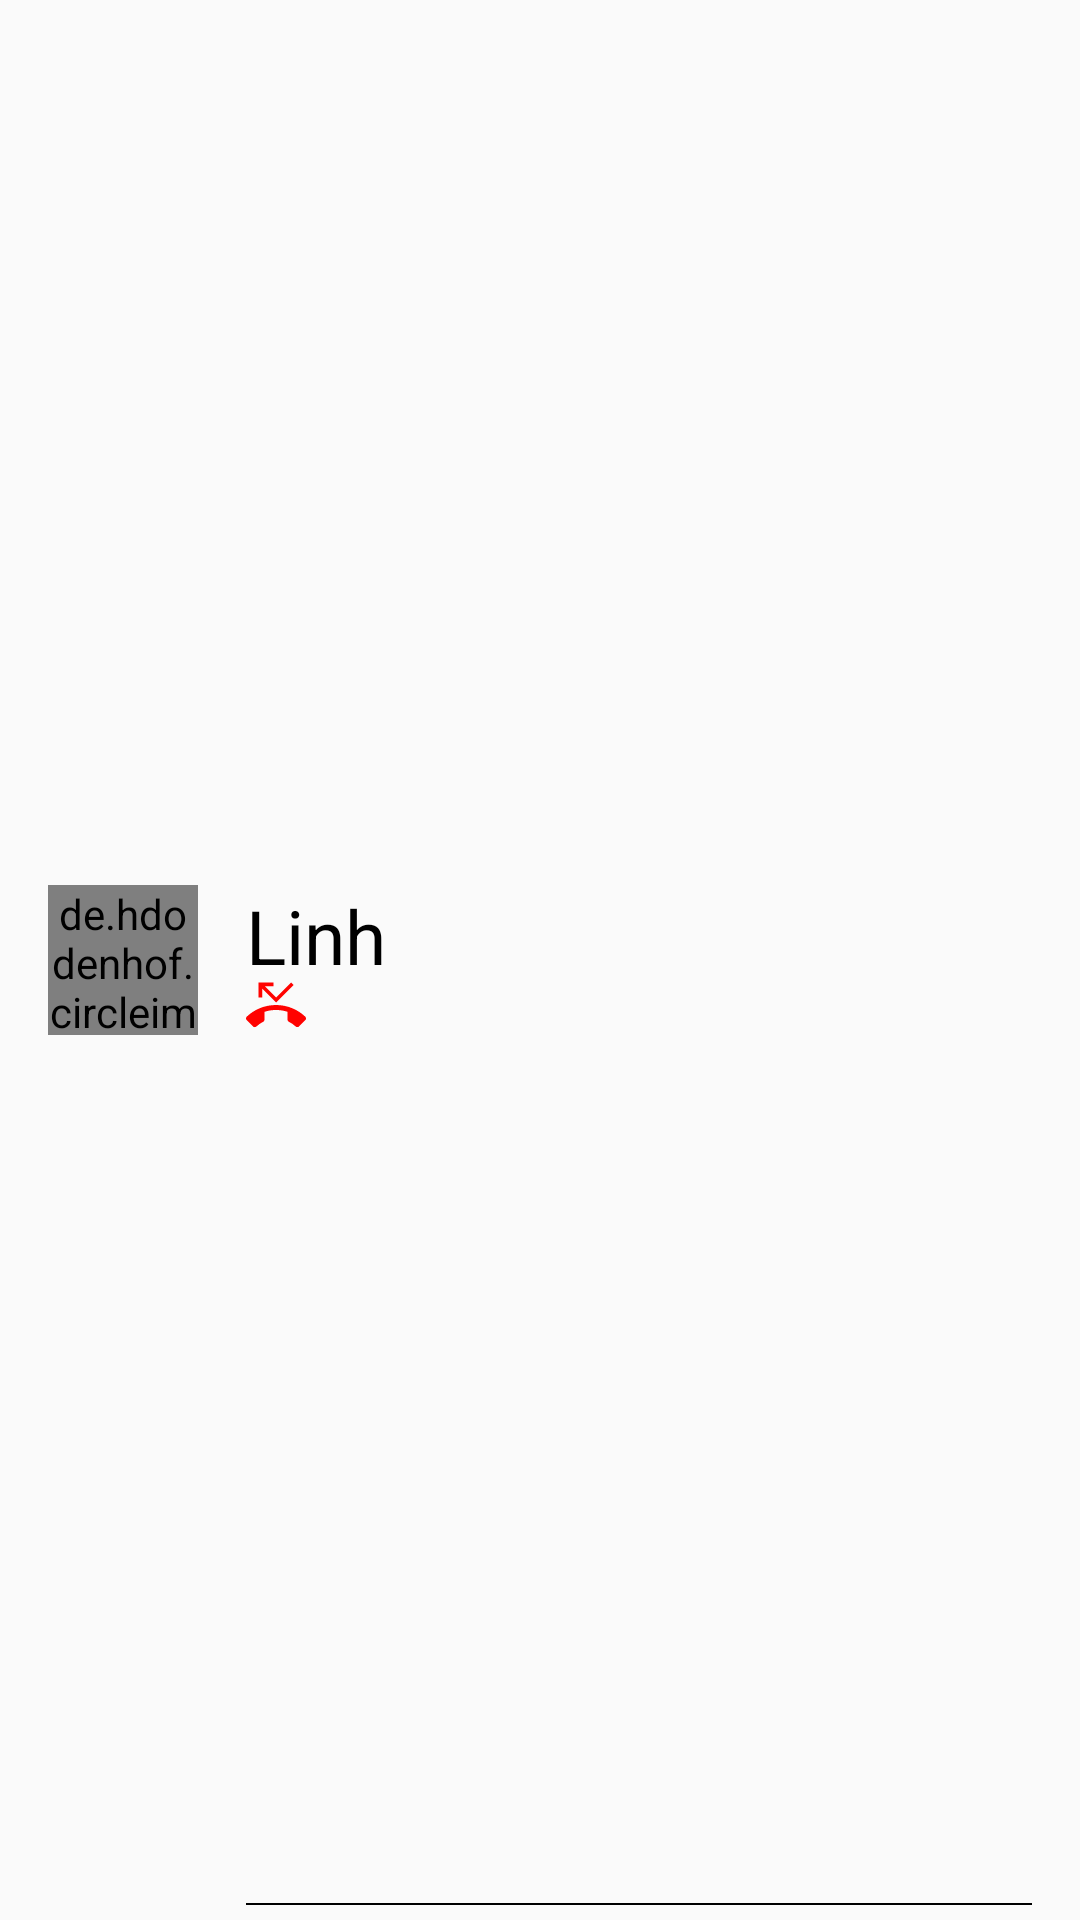

Locate icon controls on the screen. Image size 1080x1920, boxes as (x1, y1, x2, y2).
missed: (246, 982, 306, 1027)
